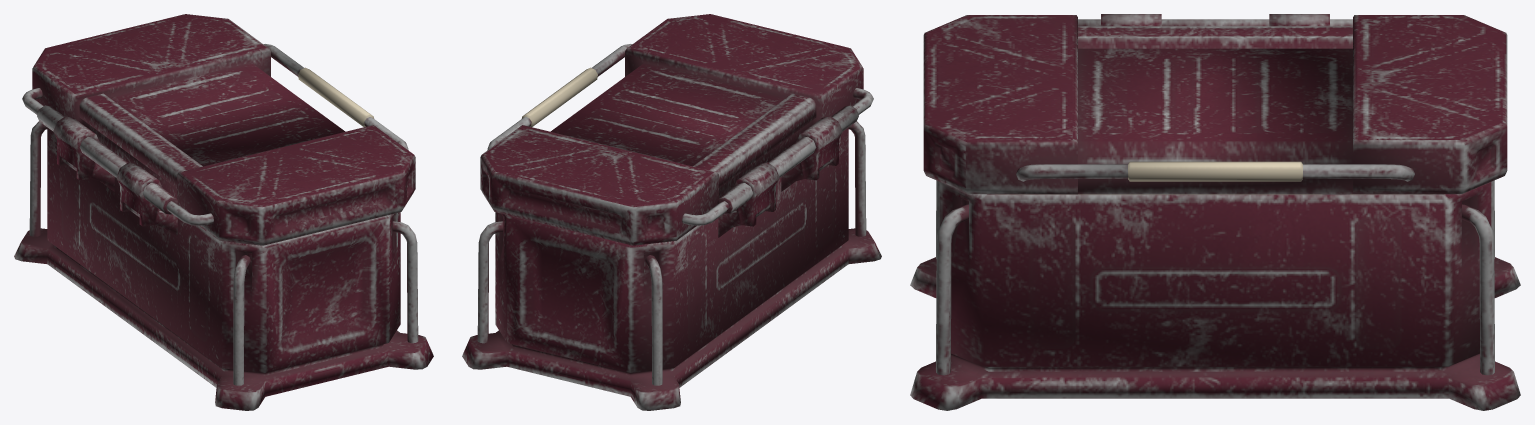
The model's file is futuristic_crate_-_animated.glb.
3 views of the same model, side by side, from view 1: azimuth 30°, elevation 25°; view 2: azimuth 150°, elevation 25°; view 3: azimuth 270°, elevation 25° (orthographic). The views are drawn at different scales.
Parts seen in each view (by area): view 1: Cylinder.005, Cylinder.000, Cylinder.001; view 2: Cylinder.005, Cylinder.000, Cylinder.001; view 3: Cylinder.005, Cylinder.000, Cylinder.001.
Boxes of the visible parts, bbox=[...] form: Cylinder.005: bbox=[14, 116, 433, 410]; Cylinder.000: bbox=[22, 14, 415, 245]; Cylinder.001: bbox=[37, 105, 179, 214]; Cylinder.005: bbox=[462, 116, 881, 410]; Cylinder.000: bbox=[480, 14, 873, 245]; Cylinder.001: bbox=[716, 105, 858, 214]; Cylinder.005: bbox=[910, 14, 1520, 410]; Cylinder.000: bbox=[923, 15, 1507, 194]; Cylinder.001: bbox=[1078, 19, 1352, 26].
Bounding box in the file's own units: 1.15 × 0.8757 × 1.84.
Materials: 1 (1 with a texture image).
